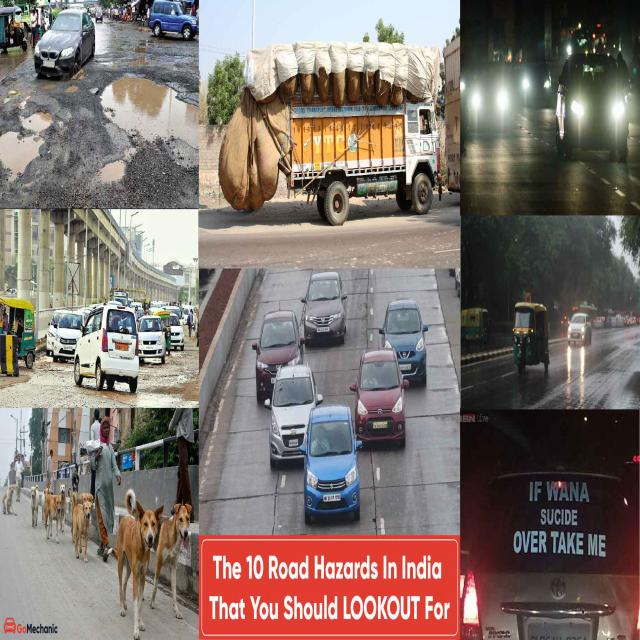Truck: (288, 86, 442, 218)
autorikshaw: (0, 290, 37, 374), (515, 301, 553, 372)
car: (304, 407, 358, 514), (73, 301, 139, 388), (351, 345, 407, 446), (270, 362, 322, 468), (253, 304, 303, 394), (36, 7, 97, 77), (383, 301, 429, 386), (300, 268, 346, 342), (146, 0, 196, 46), (135, 319, 164, 366)
